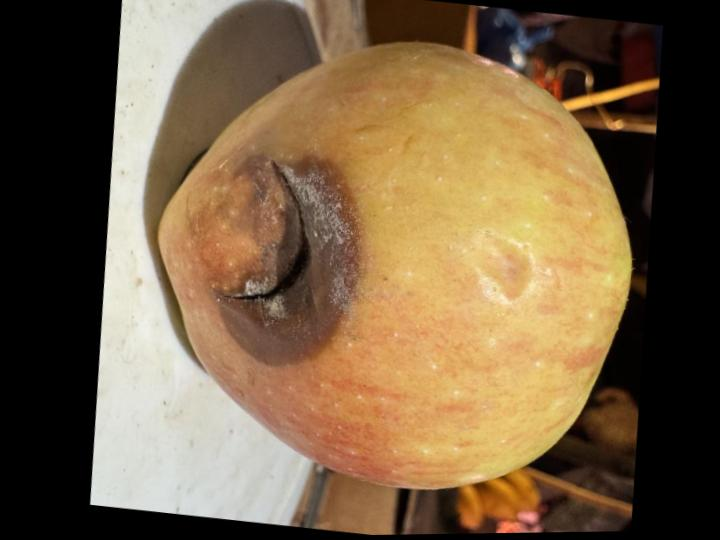apple: (158, 42, 630, 488)
rot_mold_decay: (214, 155, 359, 364)
